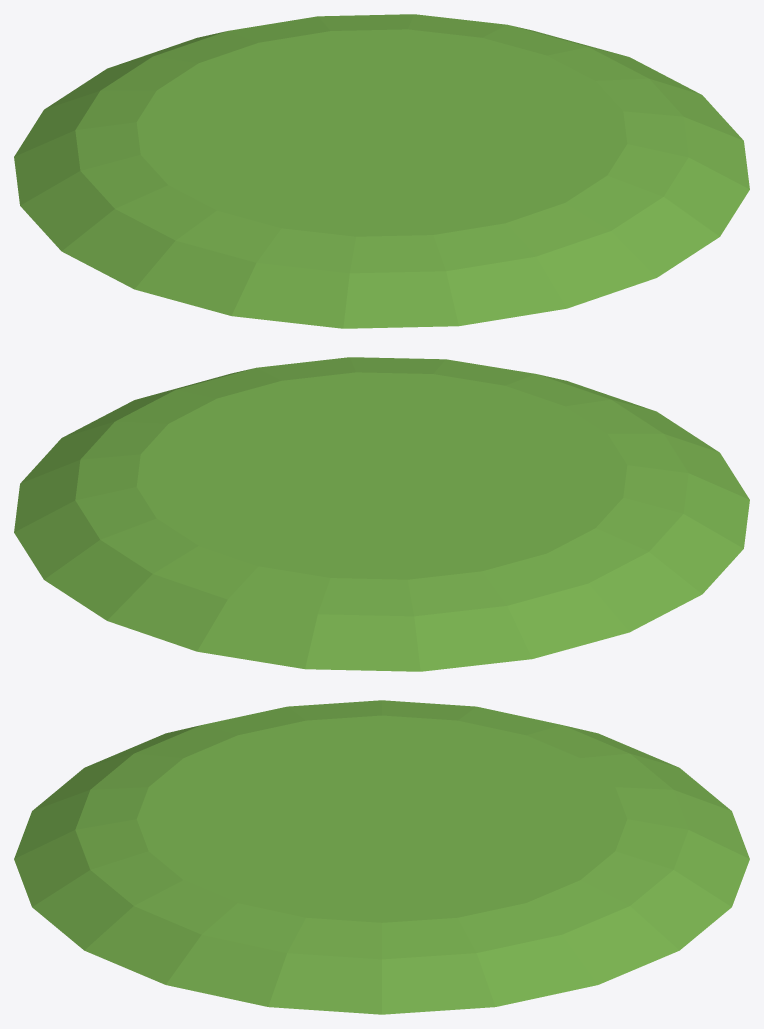
File: hill_large.glb
The picture shows the model from 3 angles, top to bottom: view 1: azimuth 30°, elevation 25°; view 2: azimuth 150°, elevation 25°; view 3: azimuth 270°, elevation 25°; orthographic projection.
Visible parts, largest first — view 1: GrassSurface.001_Surface; view 2: GrassSurface.001_Surface; view 3: GrassSurface.001_Surface.
Part boxes in pixels (<box>): GrassSurface.001_Surface: <box>14,14,749,328</box>; GrassSurface.001_Surface: <box>14,357,749,671</box>; GrassSurface.001_Surface: <box>14,700,749,1014</box>.
Size of the model in its own units: 5 by 0.3 by 5.
Materials: 1 (1 with a texture image).
